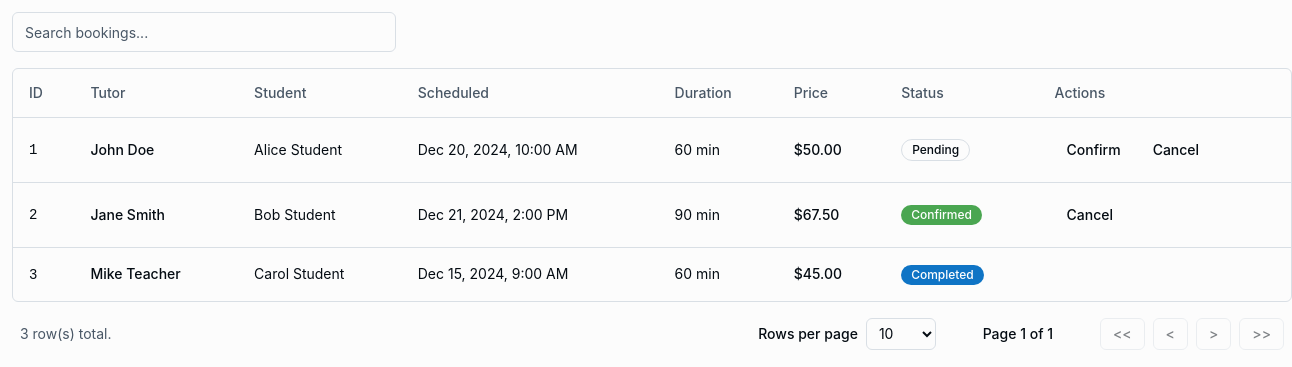
Test: BookingsTable › sorting functionality › shows sort indicators on headers
Click the text "Tutor".
click(108, 92)  # box 90,84 -> 126,101
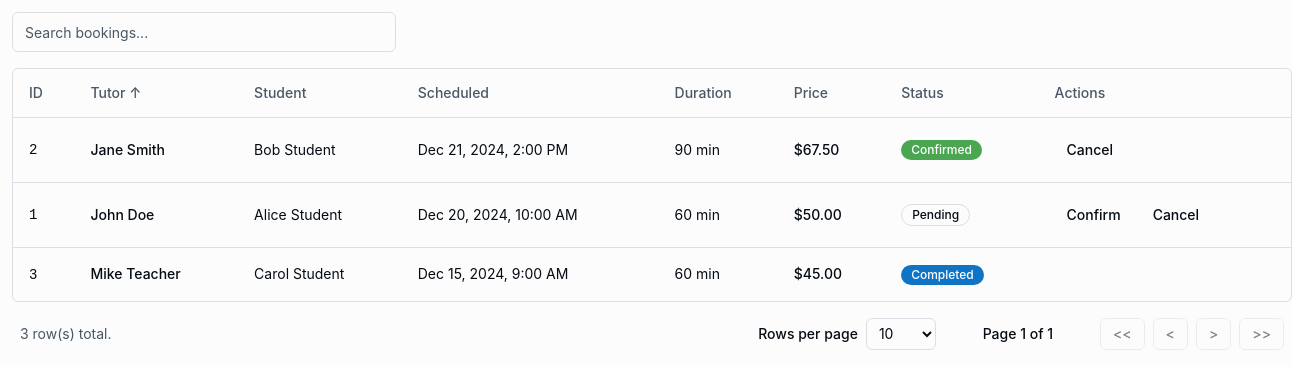
Result: the column heading "Tutor" shows "↑" at 126,84 -> 141,101
